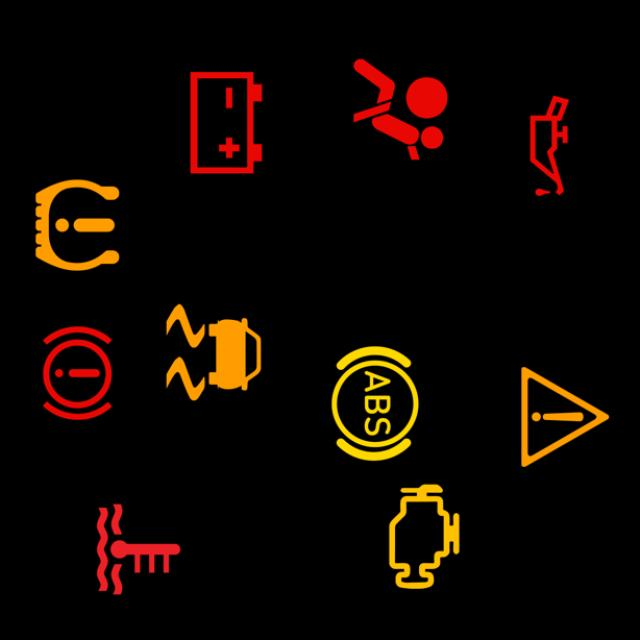Anti Lock Braking System: (312, 341, 438, 466)
Braking System Issue: (15, 310, 140, 436)
Charging System Issue: (164, 61, 288, 186)
Check Engine: (362, 474, 486, 600)
Electronic Stability Problem -ESP-: (151, 290, 276, 415)
Engine Overheating Warning Light: (76, 487, 201, 612)
Low Engine Oil Warning Light: (487, 84, 612, 208)
Low Tire Pressure Warning Light: (15, 162, 140, 288)
Master warning light: (502, 354, 628, 480)
SRS-Airbag: (338, 47, 463, 172)
